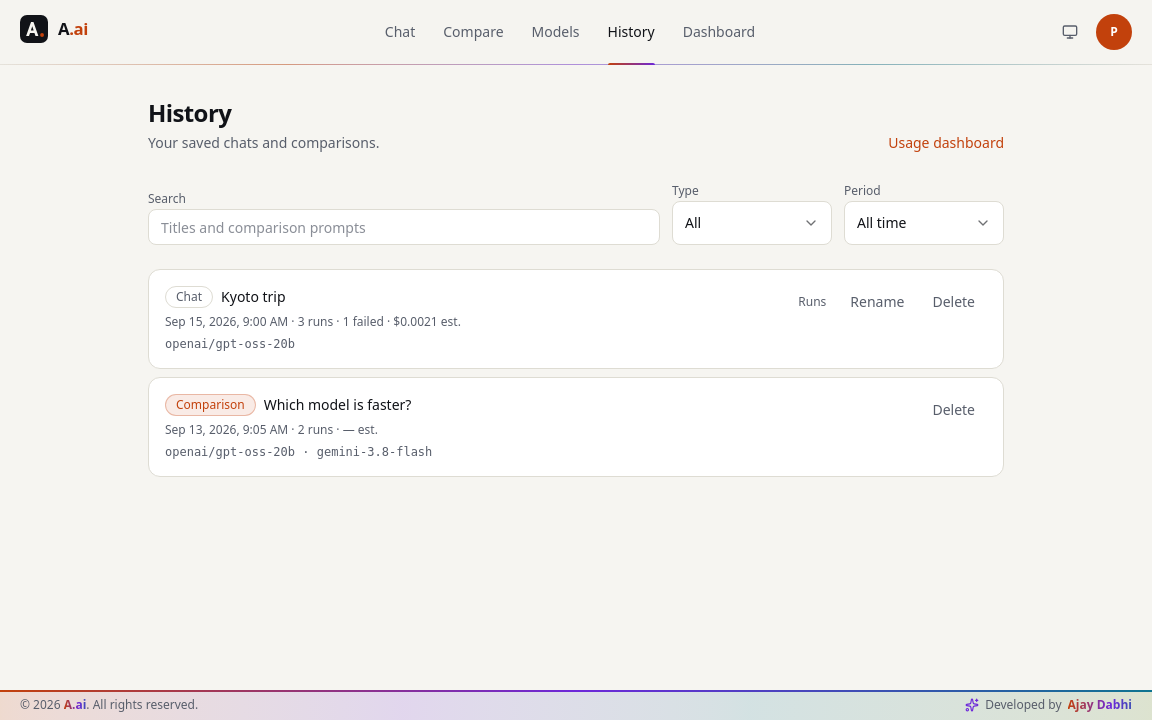
it: history page › renames a chat and deletes an item after confirmation
Click the button "Rename".
click(877, 302)  # box [838,286,916,318]
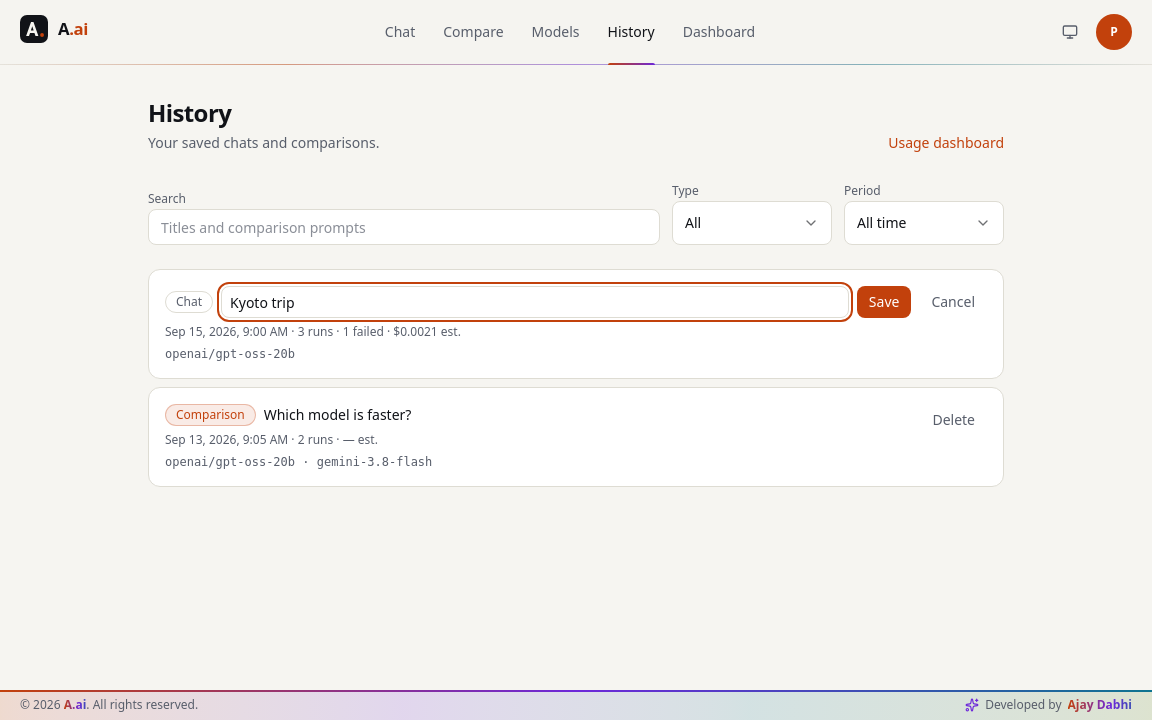
Replace the text in the field named "New title" with "Autumn in Kyoto" at (535, 302), box [221,286,849,318]
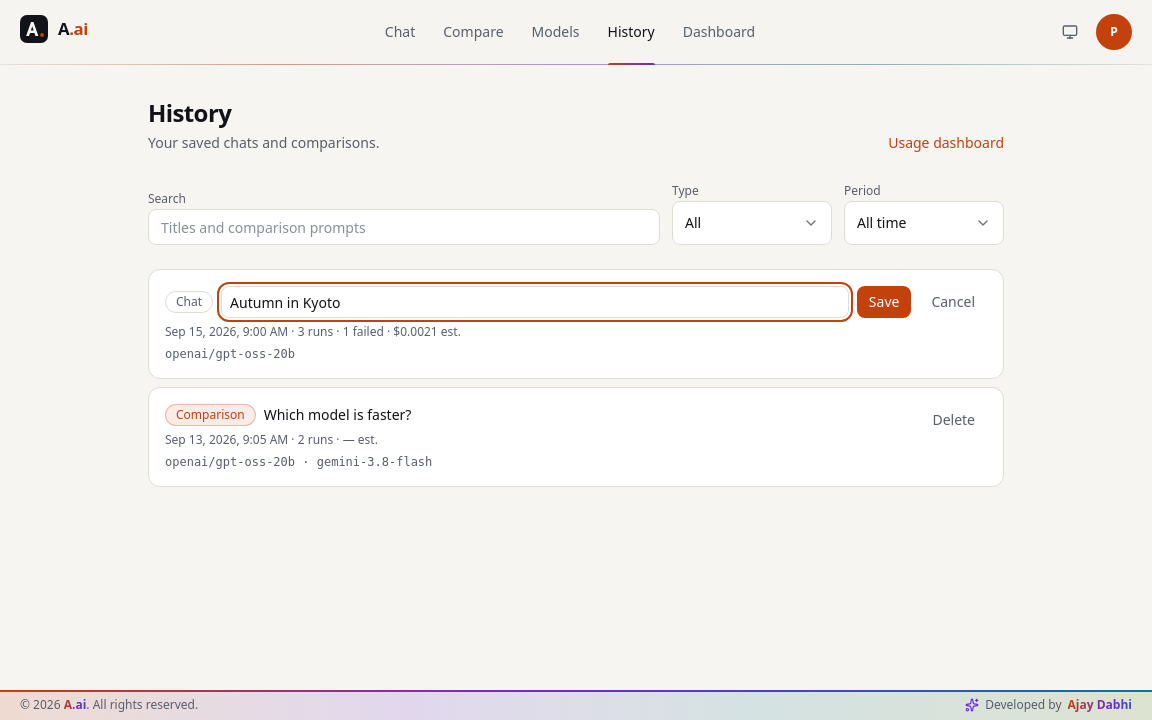
Click the button "Save".
click(884, 302)  # box [857,286,911,318]
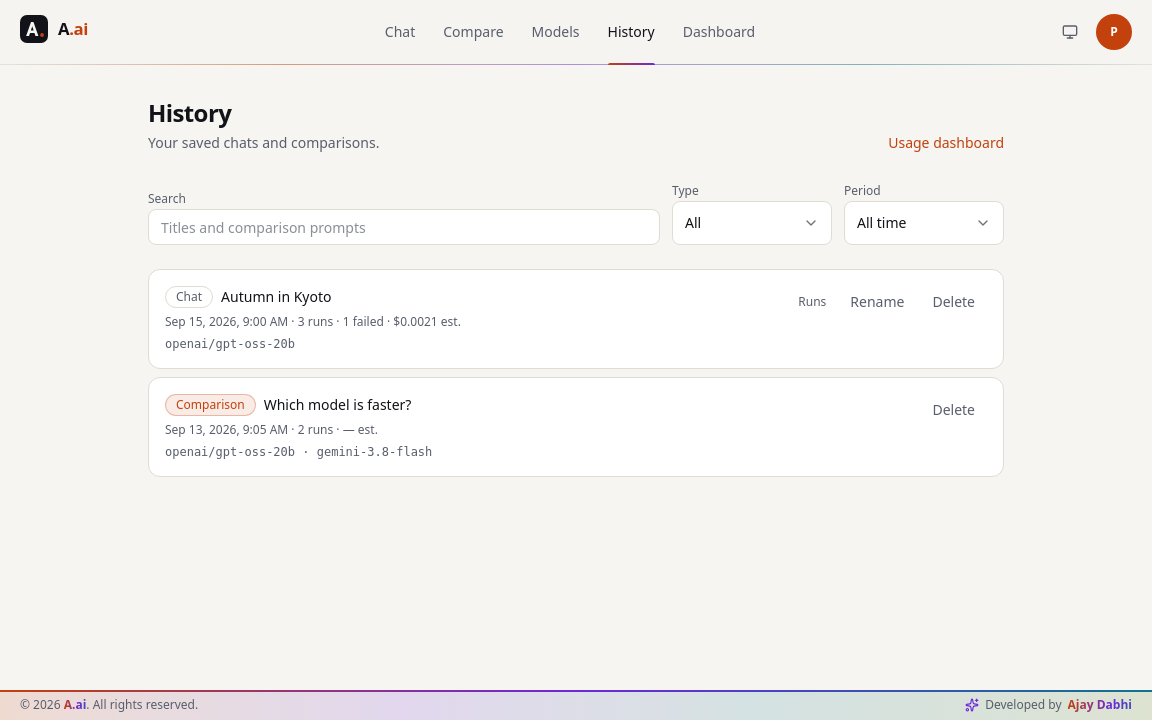
Check: the link "Autumn in Kyoto" is shown, box [221,287,332,307]
Click the button "Delete" in the row of "Which model is faster?".
click(954, 410)  # box [920,394,987,426]
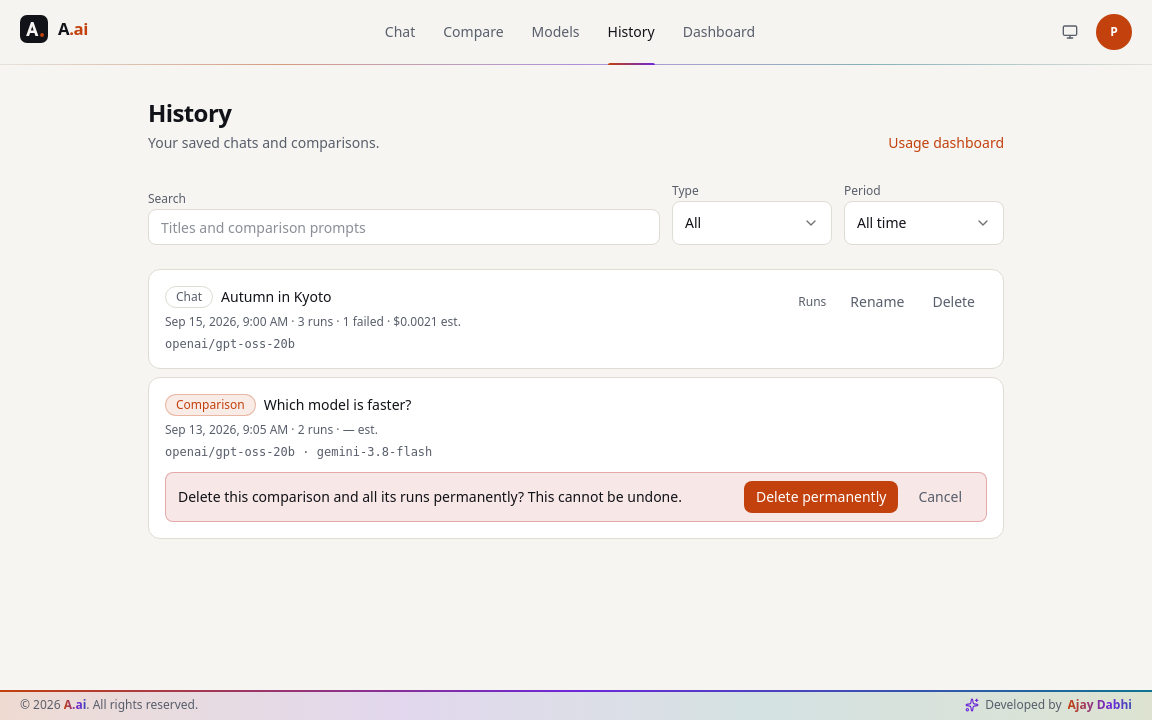
Click the button "Delete permanently".
click(821, 497)  # box [744,481,898,513]
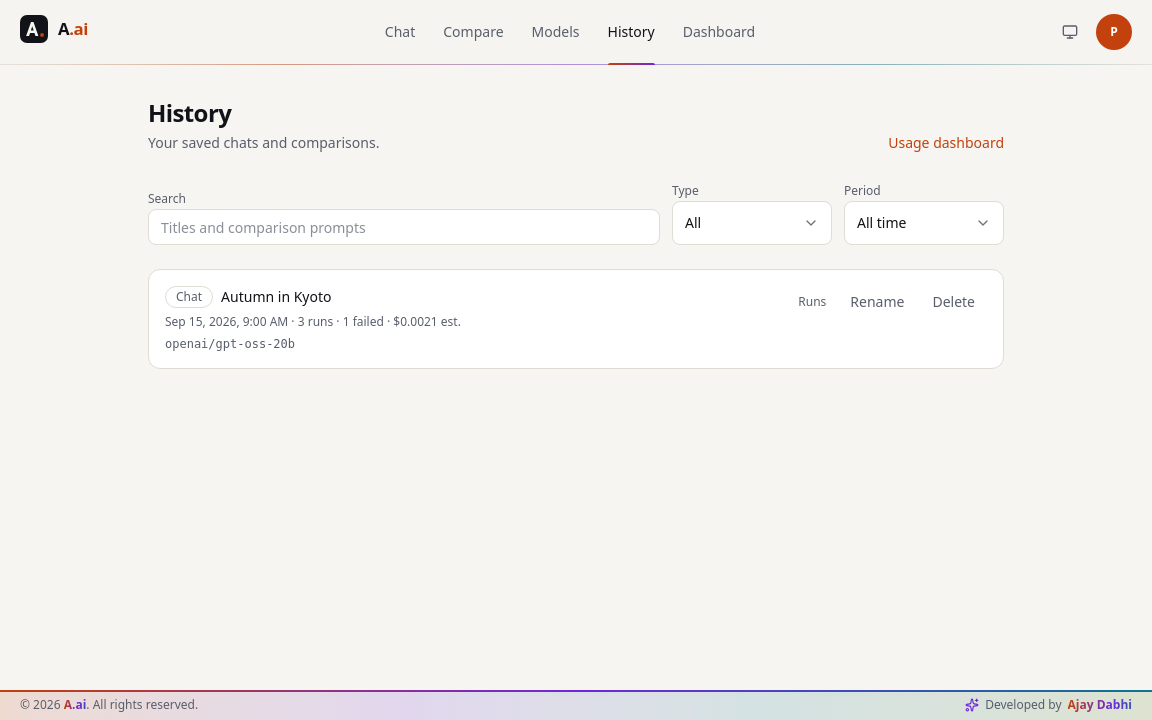
Check: the link "Which model is faster?" is gone
